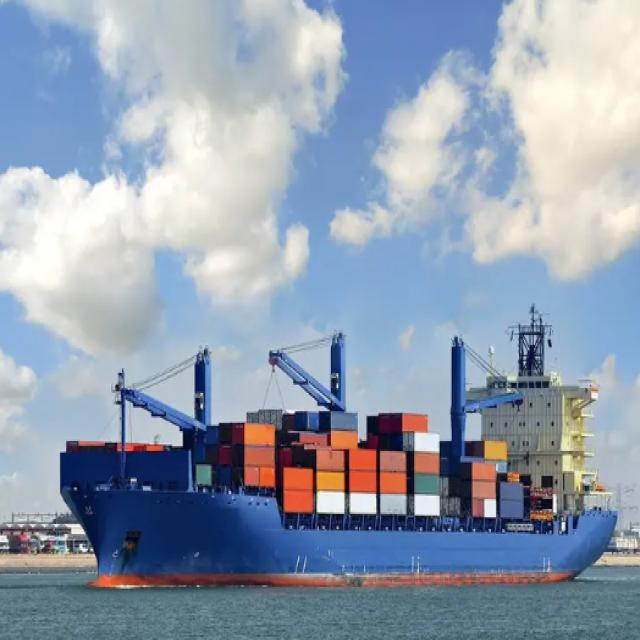cargoship: (53, 282, 589, 625)
